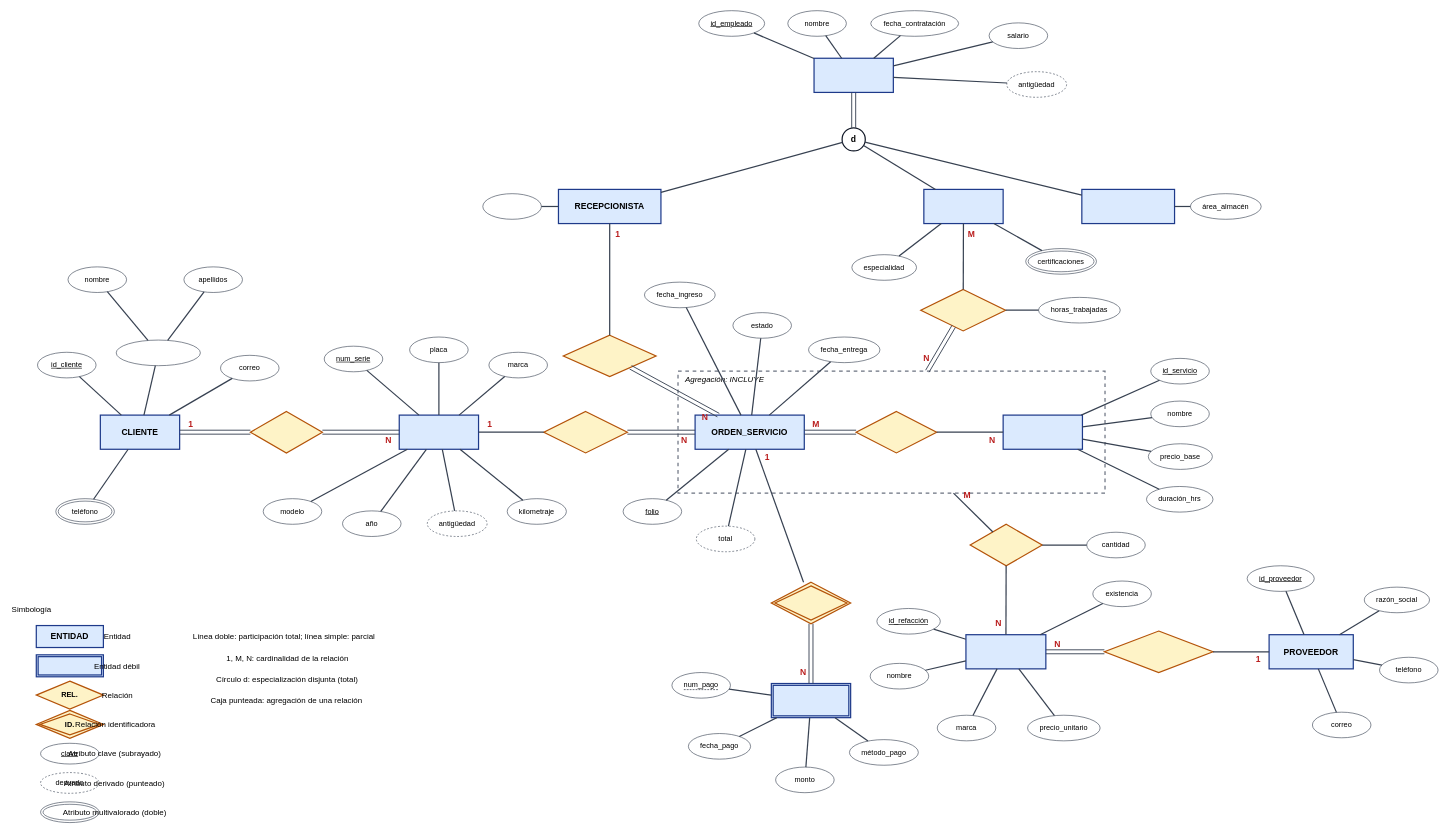
Image size: 1449x833. Some labels were removed from this diagram. The centre of each missing label's shape, as x and y in pixels:
"ALMACENISTA" belongs at [1128,206].
"DÉBIL" belongs at [69,665].
"EJECUTA" belongs at [963,310].
"EMPLEADO" belongs at [853,75].
"GENERA" belongs at [810,602].
"INCLUYE" belongs at [896,432].
"INGRESA" belongs at [585,432].
"MECÁNICO" belongs at [963,206].
"multi" belongs at [69,812].
"nombre_completo" belongs at [158,352].
"PAGO" belongs at [810,700].
"POSEE" belongs at [286,432].
"REFACCIÓN" belongs at [1005,651].
"REGISTRA" belongs at [609,355].
"SERVICIO" belongs at [1042,432].
"SUMINISTRA" belongs at [1158,651].
"turno" belongs at [511,206].
"USA" belongs at [1005,544].
"VEHÍCULO" belongs at [438,432].
